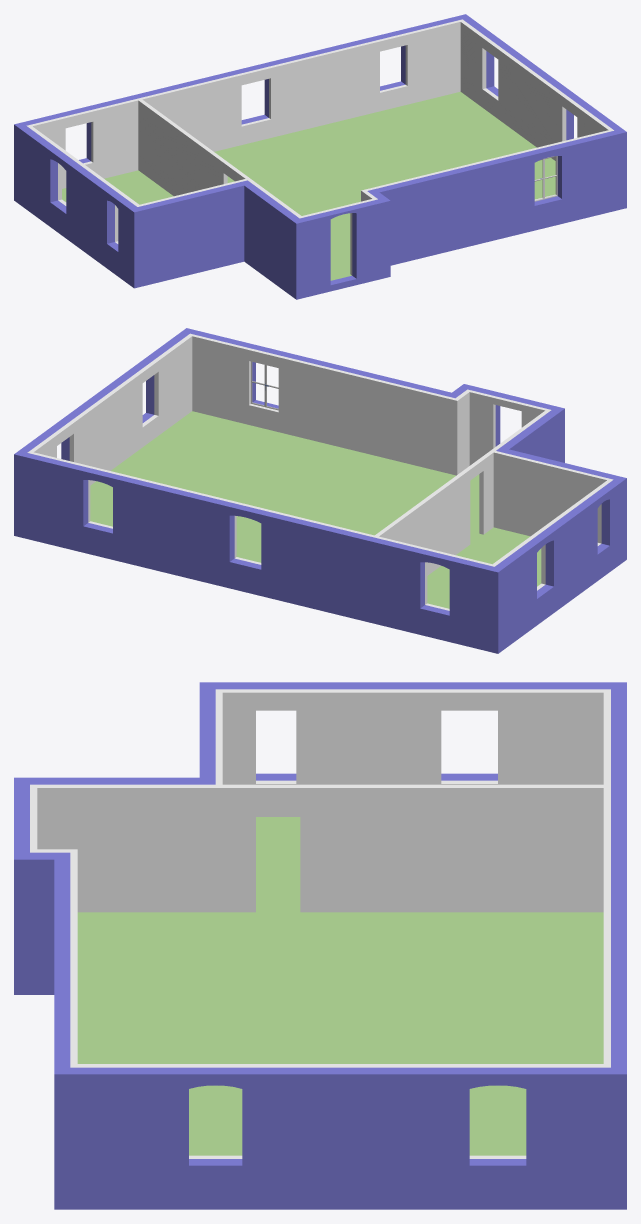
File: minos.glb
3 views of the same model, one above another, from view 1: azimuth 30°, elevation 25°; view 2: azimuth 150°, elevation 25°; view 3: azimuth 270°, elevation 25° (orthographic). The views are drawn at different scales.
Visible parts, largest first — view 1: Plane, Plane.002, Plane.001; view 2: Plane, Plane.002, Plane.001; view 3: Plane.002, Plane, Plane.001.
Part boxes in pixels (x1,y1,x2,y2): Plane: (14, 14, 626, 299); Plane.002: (26, 19, 613, 275); Plane.001: (62, 91, 555, 280); Plane: (14, 328, 626, 653); Plane.002: (27, 333, 613, 610); Plane.001: (90, 411, 541, 608); Plane.002: (30, 689, 610, 1158); Plane: (14, 682, 626, 1209); Plane.001: (77, 817, 603, 1155).
Bounding box in the file's own units: 23 × 3.7 × 15.2.
